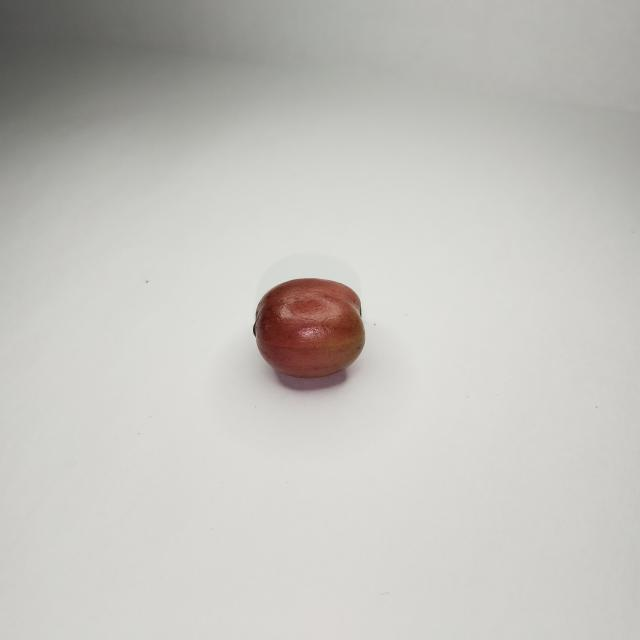Sano: (253, 277, 365, 388)
